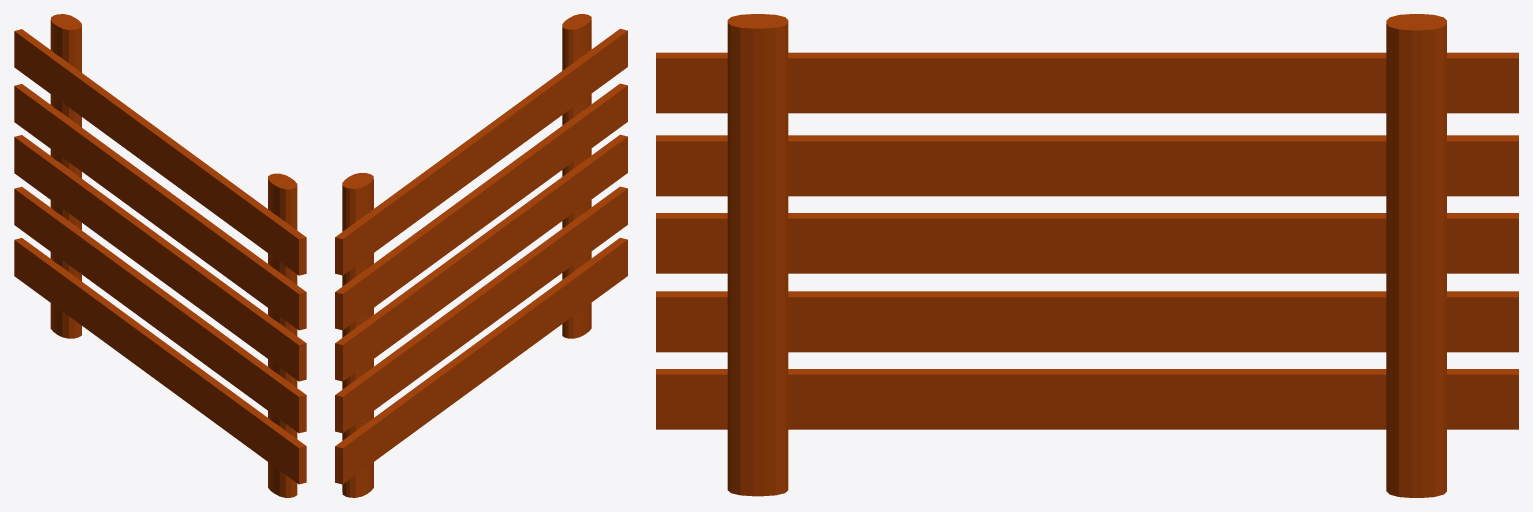
The model's file is jakisPlot.fbx.
3 views of the same model, side by side, from view 1: azimuth 30°, elevation 25°; view 2: azimuth 150°, elevation 25°; view 3: azimuth 270°, elevation 25° (orthographic). The views are drawn at different scales.
Visible parts, largest first — view 1: Cube; view 2: Cube; view 3: Cube.
Part boxes in pixels (x1=…): Cube: x1=14, y1=14, x2=306, y2=497; Cube: x1=335, y1=14, x2=627, y2=497; Cube: x1=656, y1=14, x2=1518, y2=497.
Size of the model in its own units: 170 by 1698 by 2840.
